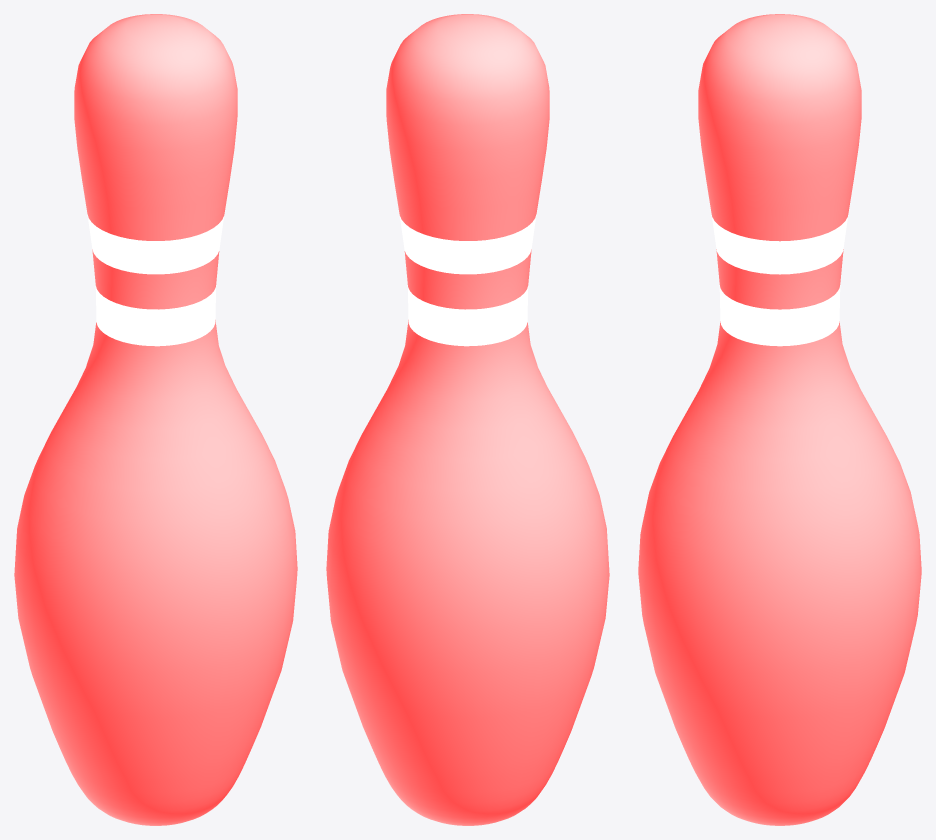
Rendered from mammatua.glb.
3 renders of one model, left to right at view 1: azimuth 30°, elevation 25°; view 2: azimuth 150°, elevation 25°; view 3: azimuth 270°, elevation 25°, orthographic.
Visible parts, largest first — view 1: CUBezierCurve001, CUBezierCurve001_1; view 2: CUBezierCurve001, CUBezierCurve001_1; view 3: CUBezierCurve001, CUBezierCurve001_1.
Part boxes in pixels (bbox=[...]): CUBezierCurve001: bbox=[14, 14, 297, 825]; CUBezierCurve001_1: bbox=[87, 215, 223, 346]; CUBezierCurve001: bbox=[326, 14, 609, 825]; CUBezierCurve001_1: bbox=[400, 215, 536, 346]; CUBezierCurve001: bbox=[638, 14, 921, 825]; CUBezierCurve001_1: bbox=[711, 215, 848, 346].
Bounding box in the file's own units: 1.24 × 3.8 × 1.24.
